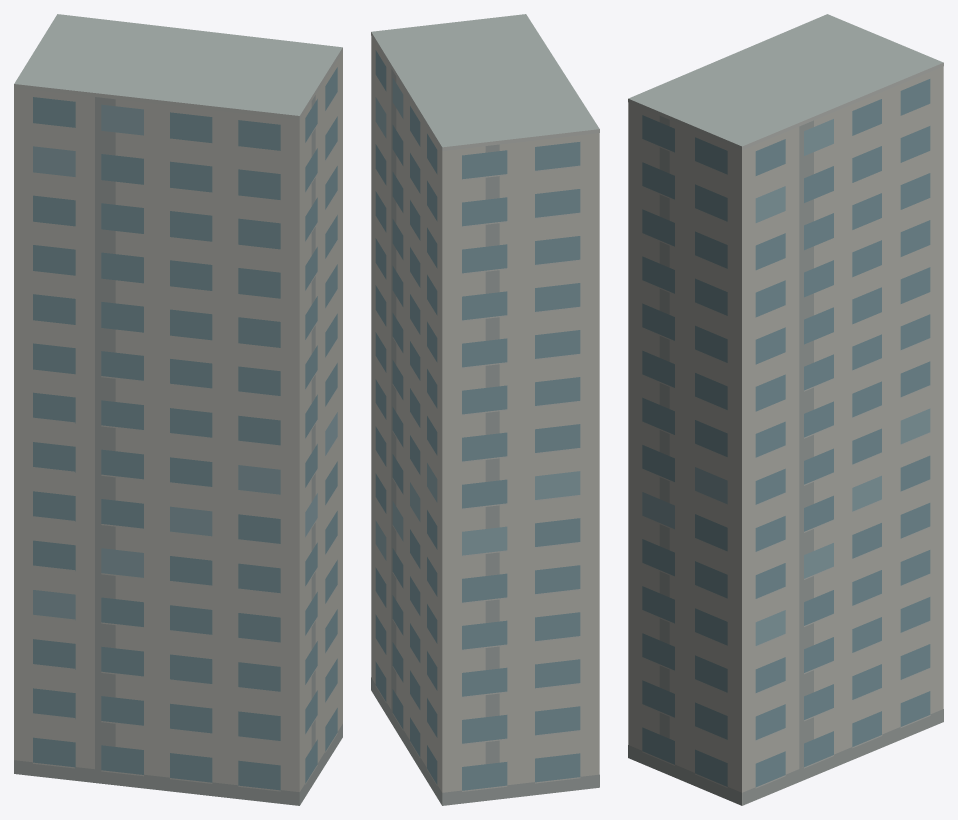
Rendered from survey-upis-32647506.glb.
3 views of the same model, side by side, from view 1: azimuth 30°, elevation 25°; view 2: azimuth 150°, elevation 25°; view 3: azimuth 270°, elevation 25° (orthographic). The views are drawn at different scales.
Visible parts, largest first — view 1: survey-upis-32647506.tmp; view 2: survey-upis-32647506.tmp; view 3: survey-upis-32647506.tmp.
Part boxes in pixels (x1,y1,x2,y2): survey-upis-32647506.tmp: (14,14,342,805); survey-upis-32647506.tmp: (371,14,599,805); survey-upis-32647506.tmp: (628,14,943,805).
Bounding box in the file's own units: 18.41 × 42.7 × 18.53.
